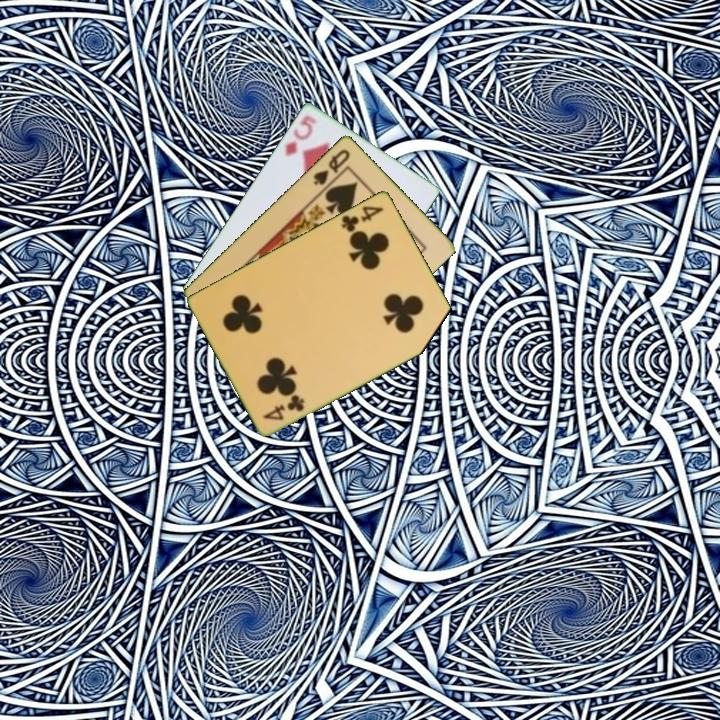4c: (338, 202, 387, 235), (260, 391, 308, 423)
5d: (281, 111, 319, 159)
Qs: (310, 145, 353, 188)
